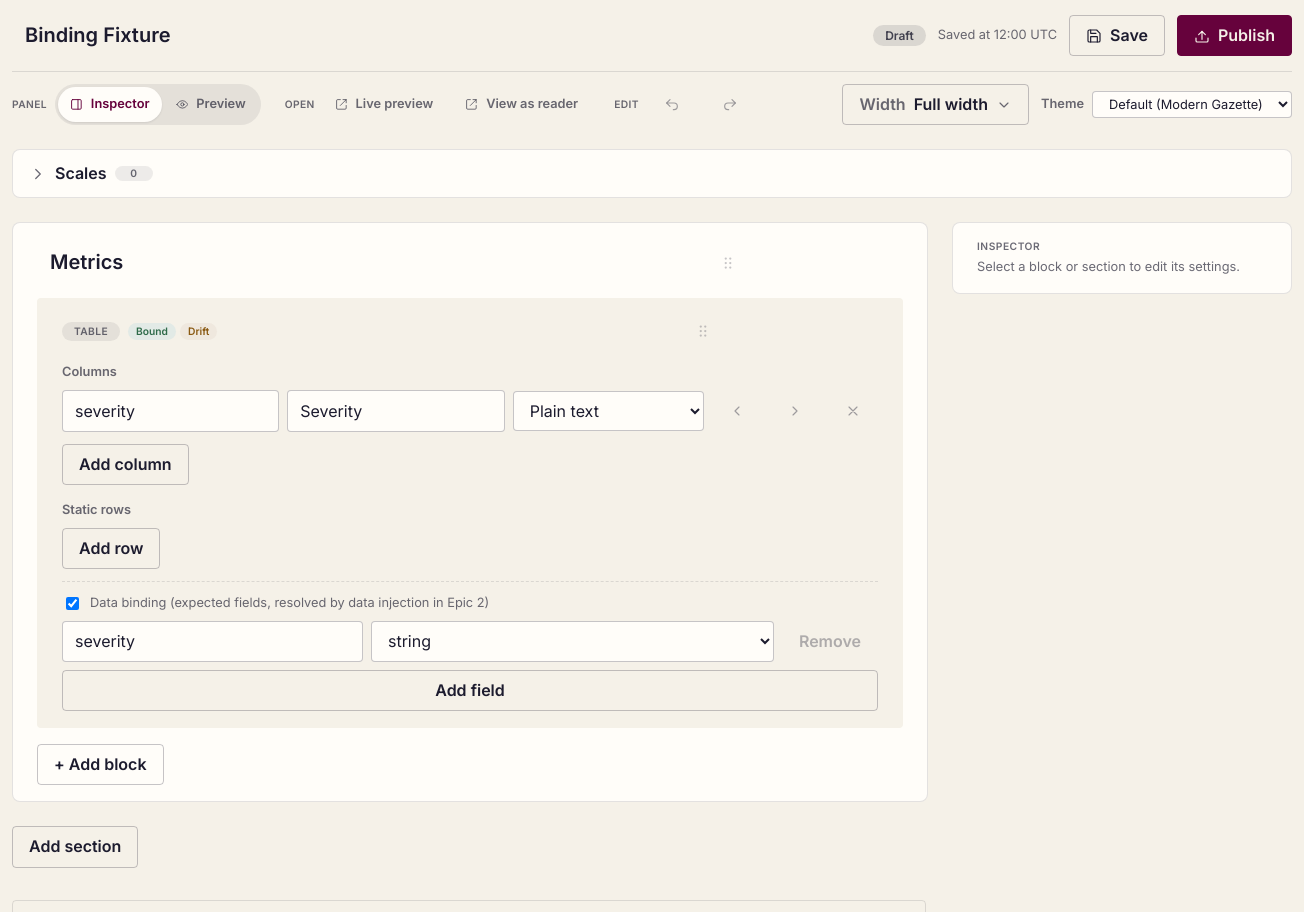
Test: Editor data binding - token reconciliation (Epic 10.5) › surfaces rebind diagnostics at the block and reconciles the token
The width and height of the screenshot is (1304, 912).
Step 1. Click the element named "table block" → {"x": 470, "y": 513}, box [37,298,903,728]
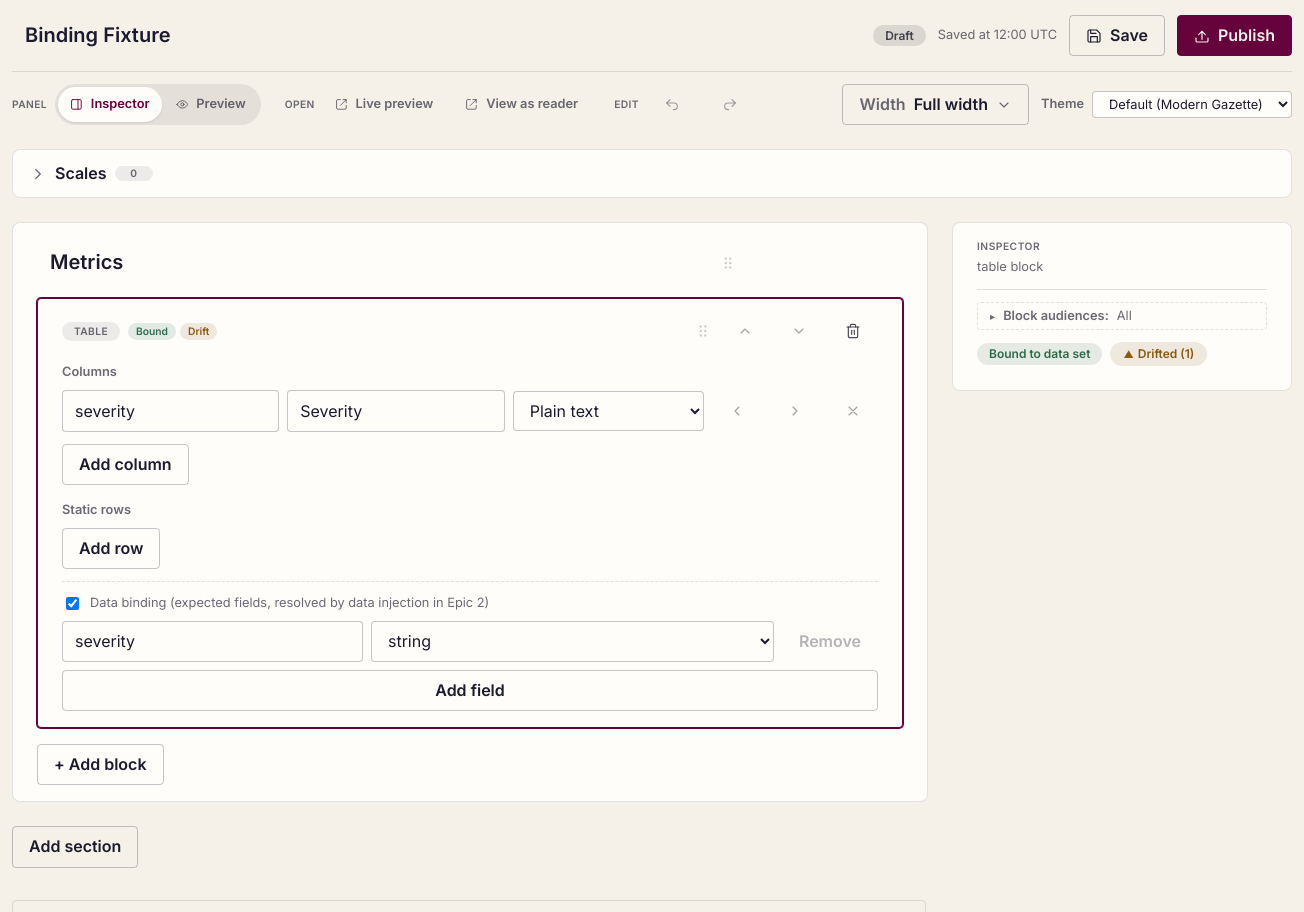
Check: the button "▲ Drifted (1)" is shown
Step 2. Click the button "▲ Drifted (1)" → {"x": 1159, "y": 354}, box [1110,342,1207,366]
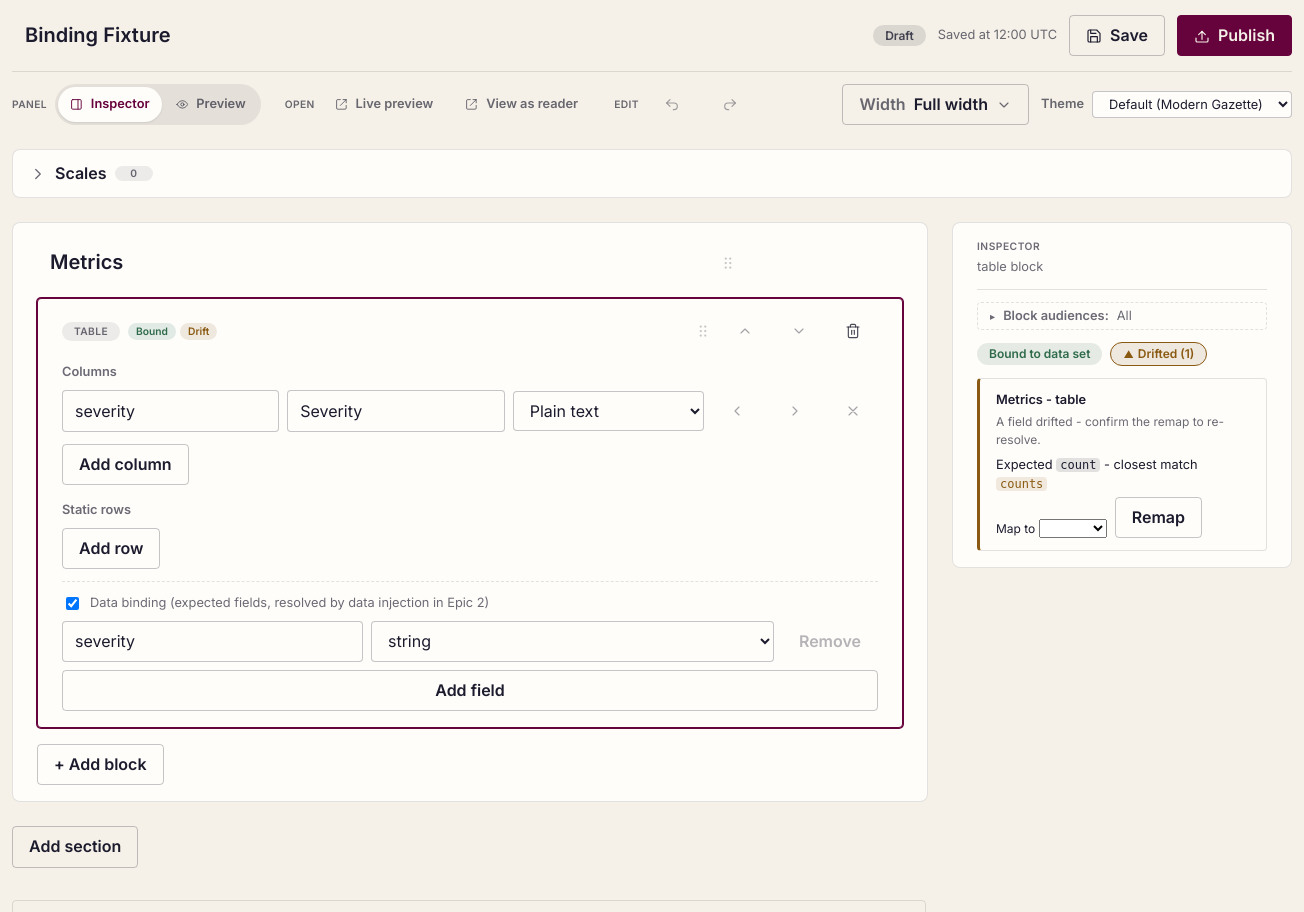
Check: the form "Map to Remap" is shown, box [996,497,1202,538]
